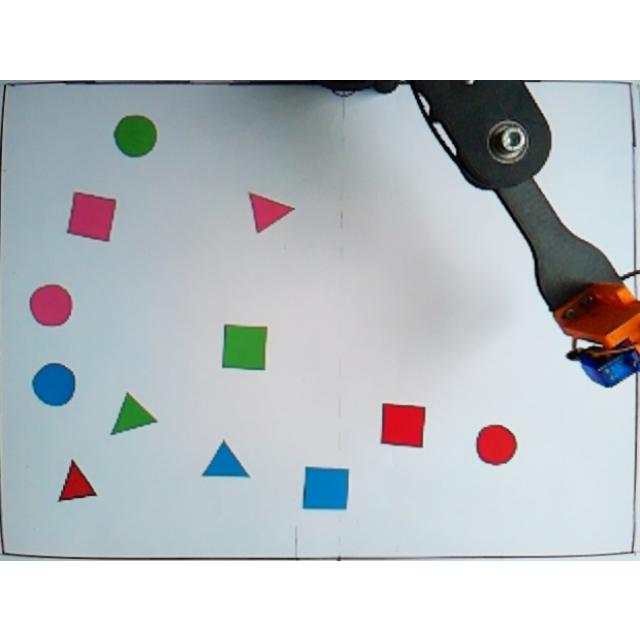blueCircle: (29, 359, 80, 409)
blueSquare: (299, 463, 351, 511)
blueTriangle: (200, 436, 253, 482)
greenCircle: (110, 109, 160, 158)
greenSquare: (220, 320, 270, 372)
greenTriangle: (109, 387, 158, 439)
pinkCircle: (28, 278, 76, 328)
pinkSquare: (64, 189, 118, 243)
pinkTriangle: (246, 188, 298, 236)
redCircle: (474, 420, 520, 466)
redSquare: (378, 399, 430, 451)
redTriangle: (55, 456, 99, 506)
